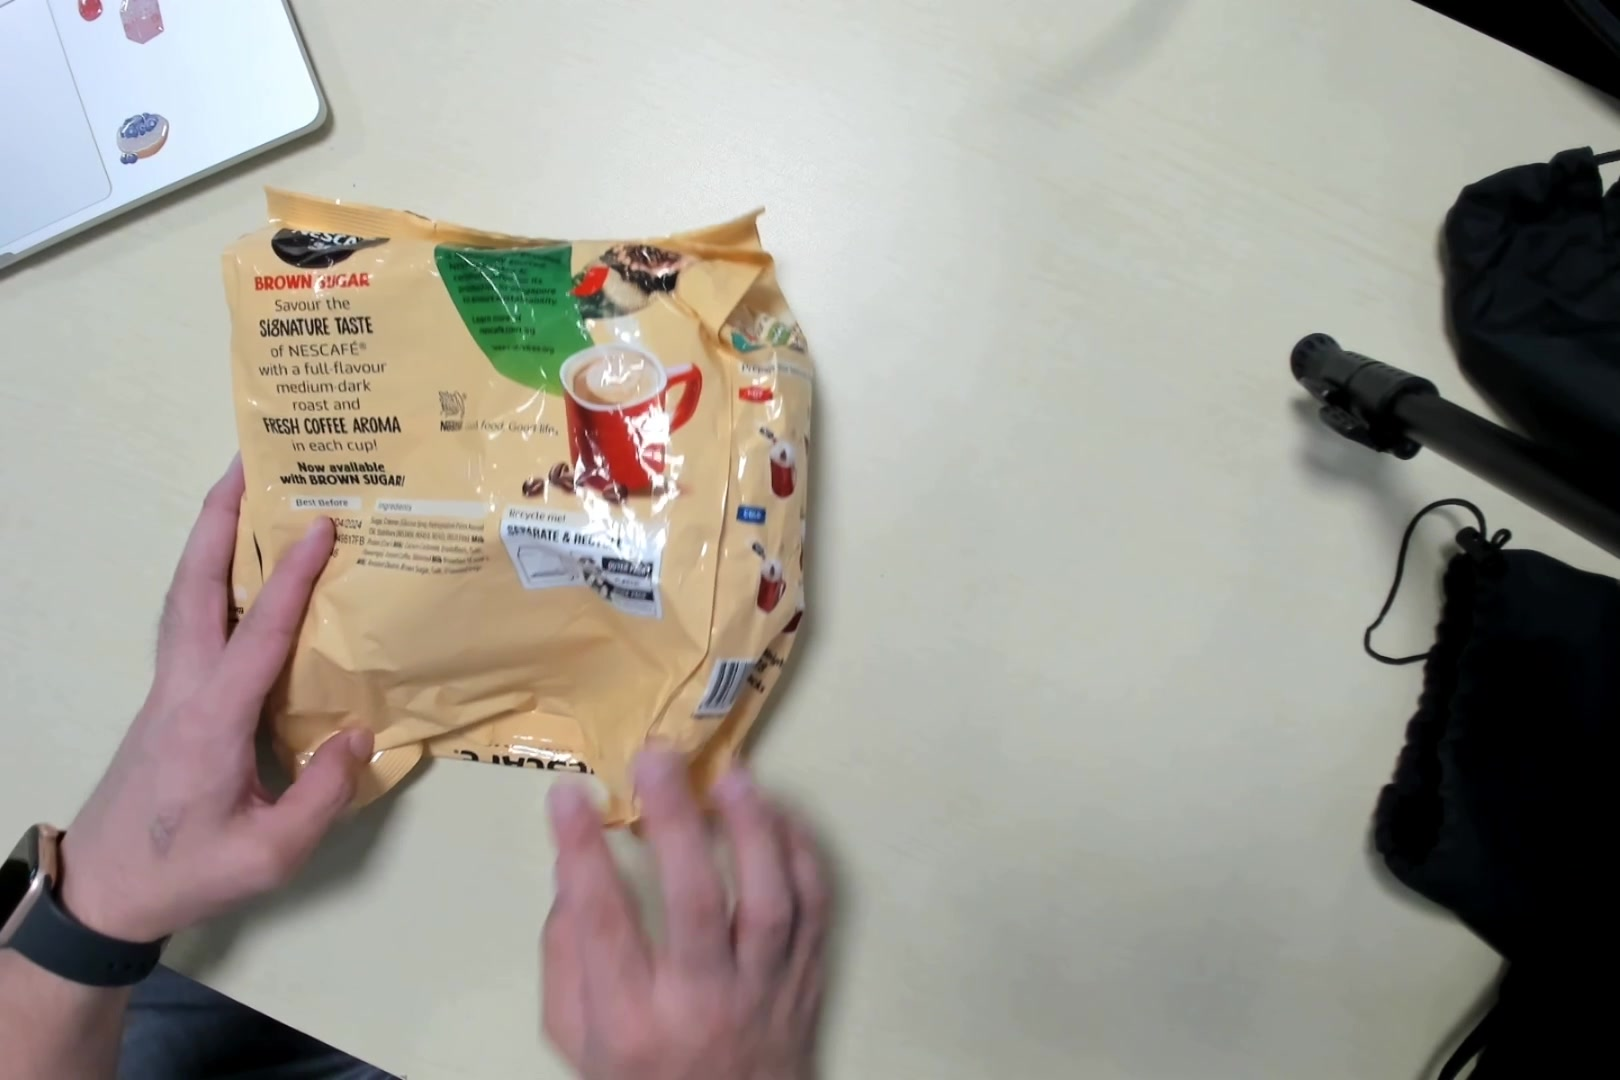Coffee(Powder)_500-599g_Halal_Healthy: (230, 184, 818, 820)
